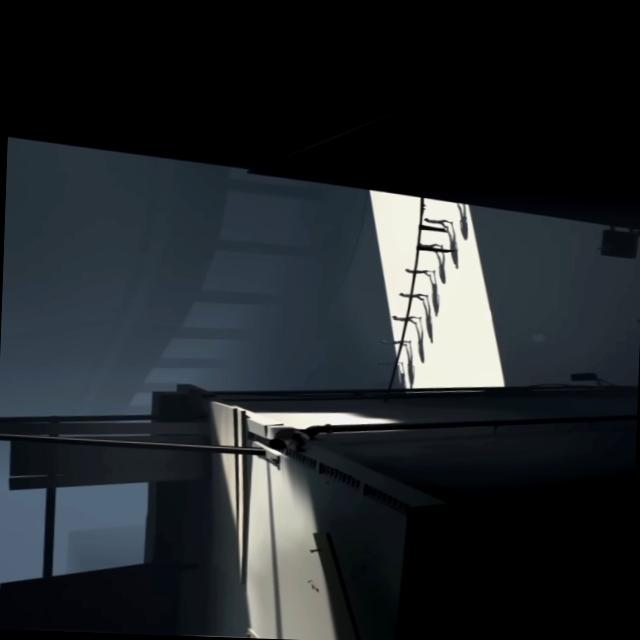boy: (268, 426, 309, 449)
zombie: (422, 218, 452, 228), (390, 315, 420, 324), (380, 338, 410, 346), (397, 292, 427, 300), (404, 269, 434, 276), (376, 360, 402, 366), (418, 242, 442, 248)
